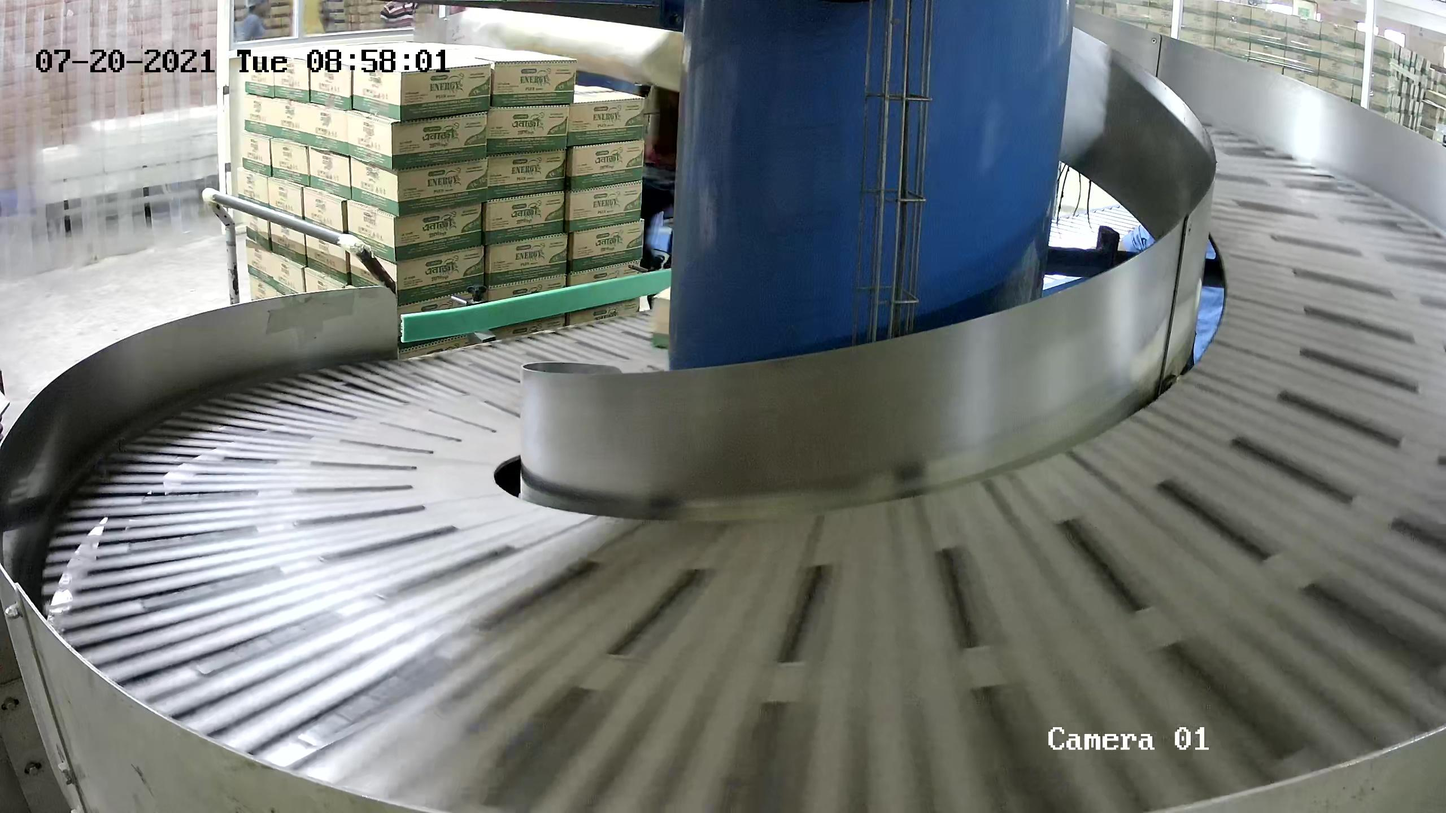Box: (651, 286, 672, 348)
